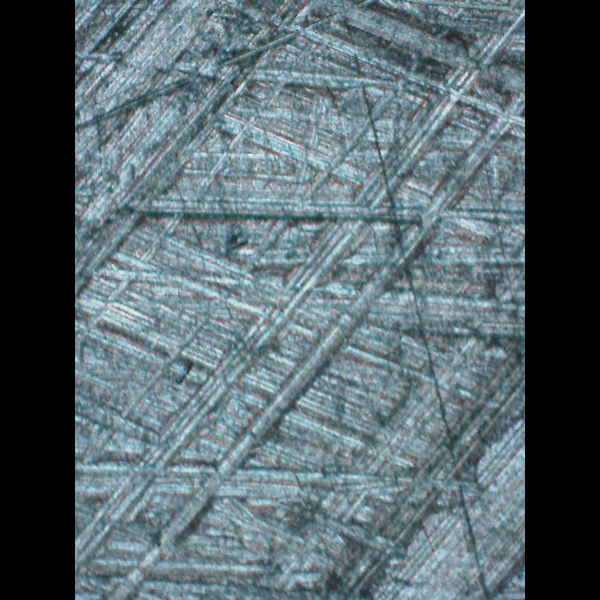d: (94, 66, 506, 545)
